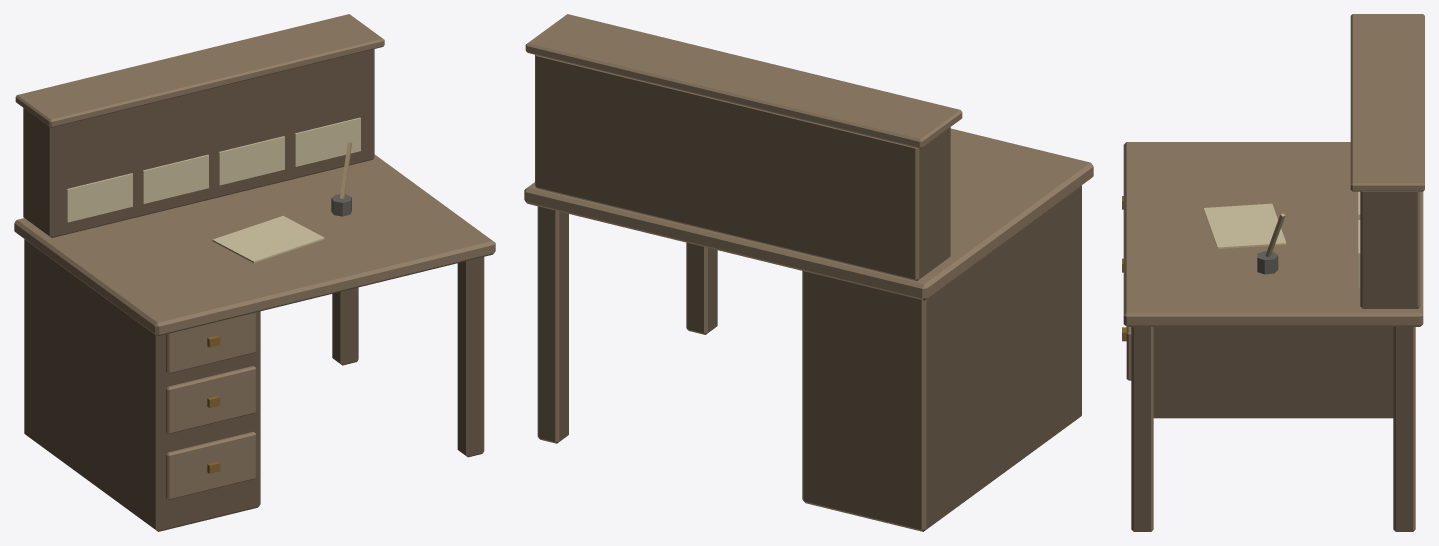
File: desk.glb
3 views of the same model, side by side, from view 1: azimuth 30°, elevation 25°; view 2: azimuth 150°, elevation 25°; view 3: azimuth 270°, elevation 25° (orthographic). The views are drawn at different scales.
Parts seen in each view (by area): view 1: Desk; view 2: Desk; view 3: Desk.
Boxes of the visible parts, bbox=[...] form: Desk: bbox=[14, 14, 495, 531]; Desk: bbox=[524, 14, 1093, 531]; Desk: bbox=[1122, 14, 1424, 531].
Size of the model in its own units: 1.3 by 1.23 by 0.96.
